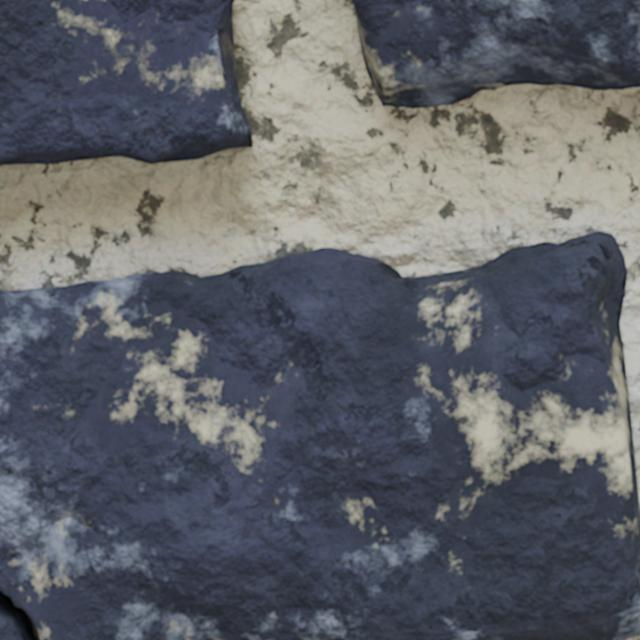brick: (0, 0, 251, 163), (353, 0, 639, 107)
broken_brick: (0, 230, 639, 639), (0, 620, 9, 639)
crack: (0, 590, 40, 639)
